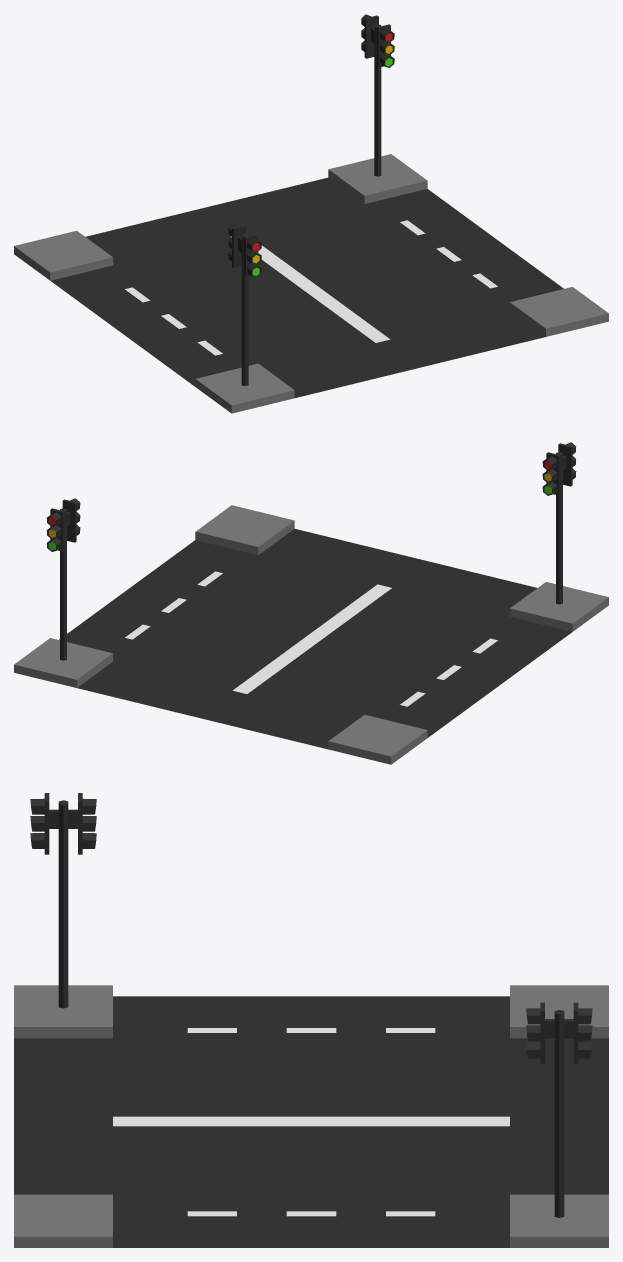
The model's file is RoadIntersectionLS.fbx.
3 views of the same model, one above another, from view 1: azimuth 30°, elevation 25°; view 2: azimuth 150°, elevation 25°; view 3: azimuth 270°, elevation 25° (orthographic). The views are drawn at different scales.
Parts seen in each view (by area): view 1: RoadIntersectionLS, TrafficLightPole (×2); view 2: RoadIntersectionLS, TrafficLightPole (×2), TrafficLightTopB (×2); view 3: RoadIntersectionLS, TrafficLightPole (×2).
Part boxes in pixels (<box>): RoadIntersectionLS: <box>14,154,608,413</box>; TrafficLightPole (×2): <box>241,24,381,385</box>; RoadIntersectionLS: <box>14,505,608,764</box>; TrafficLightPole (×2): <box>60,452,562,660</box>; TrafficLightTopB (×2): <box>62,443,572,542</box>; RoadIntersectionLS: <box>14,985,608,1247</box>; TrafficLightPole (×2): <box>58,800,564,1217</box>.
Bounding box in the file's own units: 24 × 9.8 × 24.
1 material, 1 textured.
